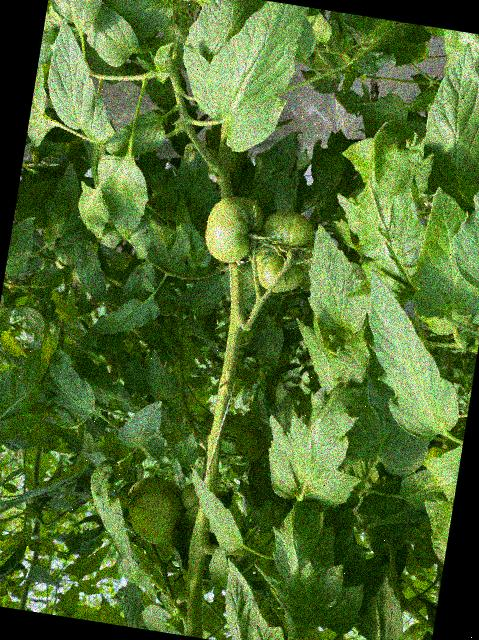b_green: (249, 206, 320, 298), (120, 473, 191, 548), (201, 191, 268, 267), (178, 481, 203, 511)
